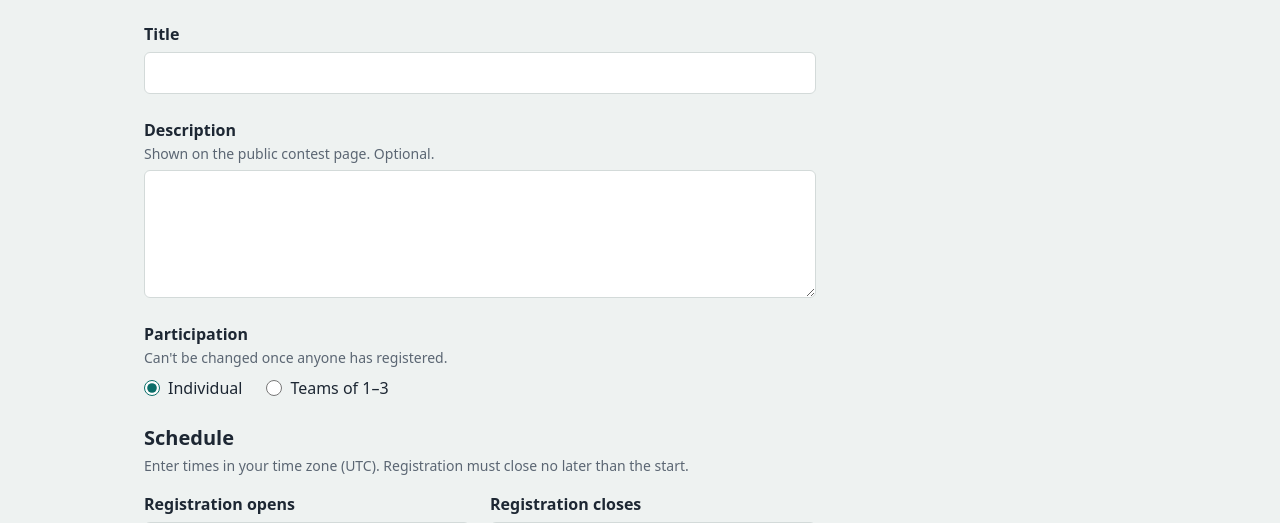
Test case: organizer contests › creates a draft with UTC times and opens it
Type "Weekly Practice" into the field labelled "Title" at {"x": 480, "y": 73}, box left=144, top=52, right=816, bottom=94
Click the radio button labelled "Teams of 1–3" at {"x": 274, "y": 388}, box left=266, top=380, right=282, bottom=396
(page scrolled)
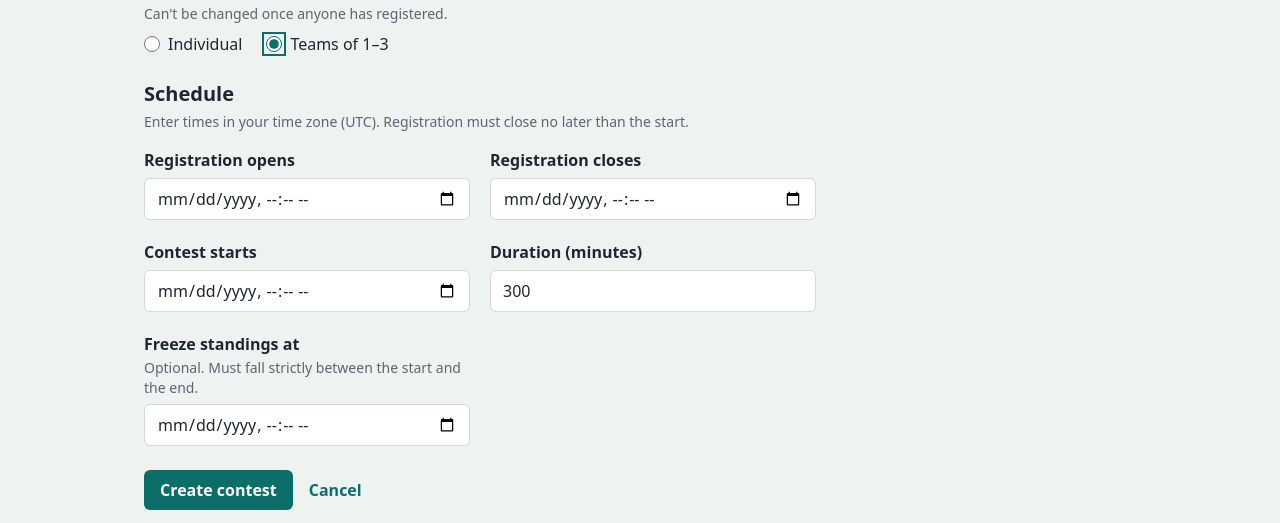
Type "2030-01-01T09:00" into the field labelled "Registration opens" at {"x": 307, "y": 199}, box left=144, top=178, right=470, bottom=220
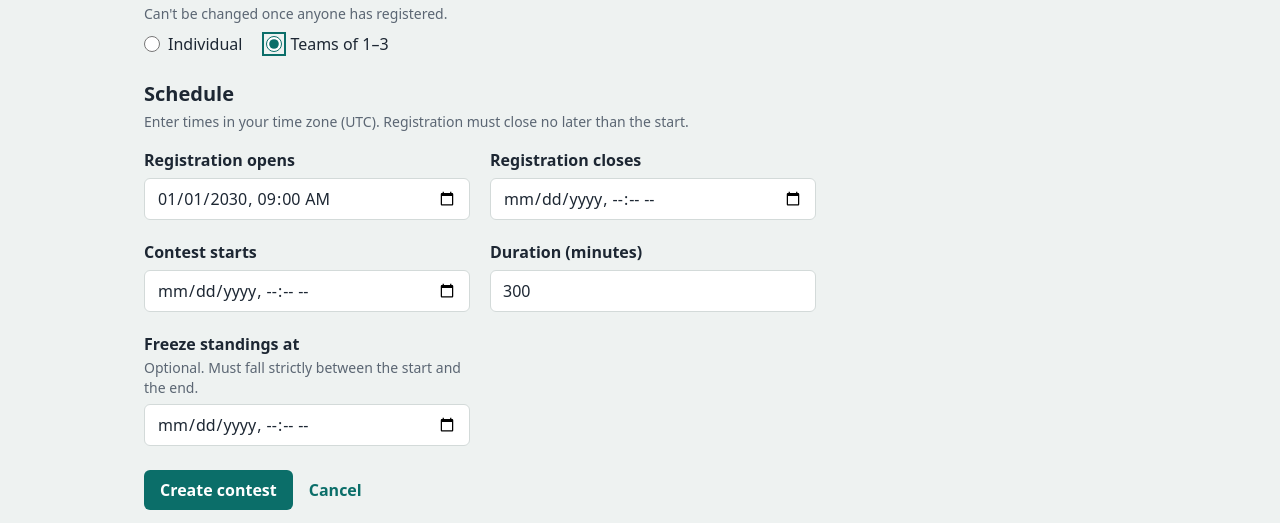
Type "2030-01-05T09:00" into the field labelled "Registration closes" at {"x": 653, "y": 199}, box left=490, top=178, right=816, bottom=220
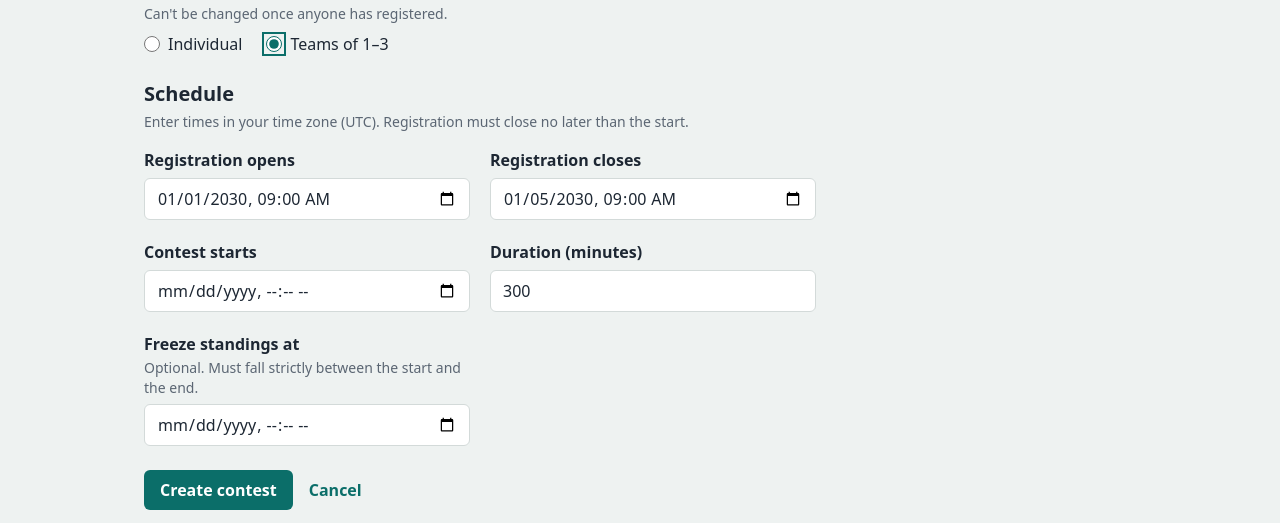
Type "2030-01-06T09:00" into the field labelled "Contest starts" at {"x": 307, "y": 291}, box left=144, top=270, right=470, bottom=312
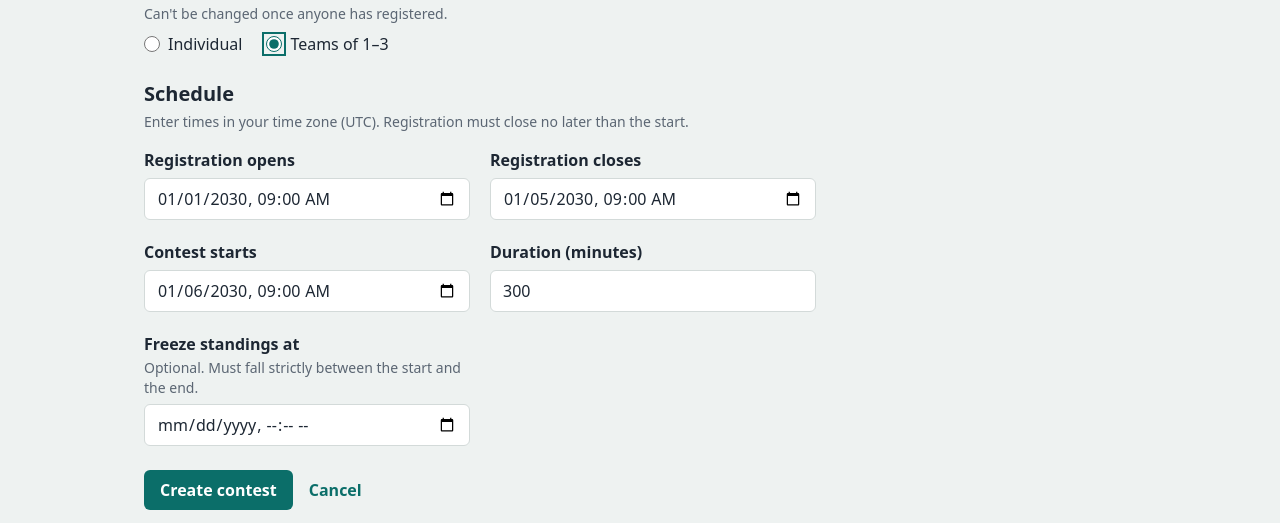
Replace the text in the number field labelled "Duration (minutes)" with "180" at {"x": 653, "y": 291}, box left=490, top=270, right=816, bottom=312
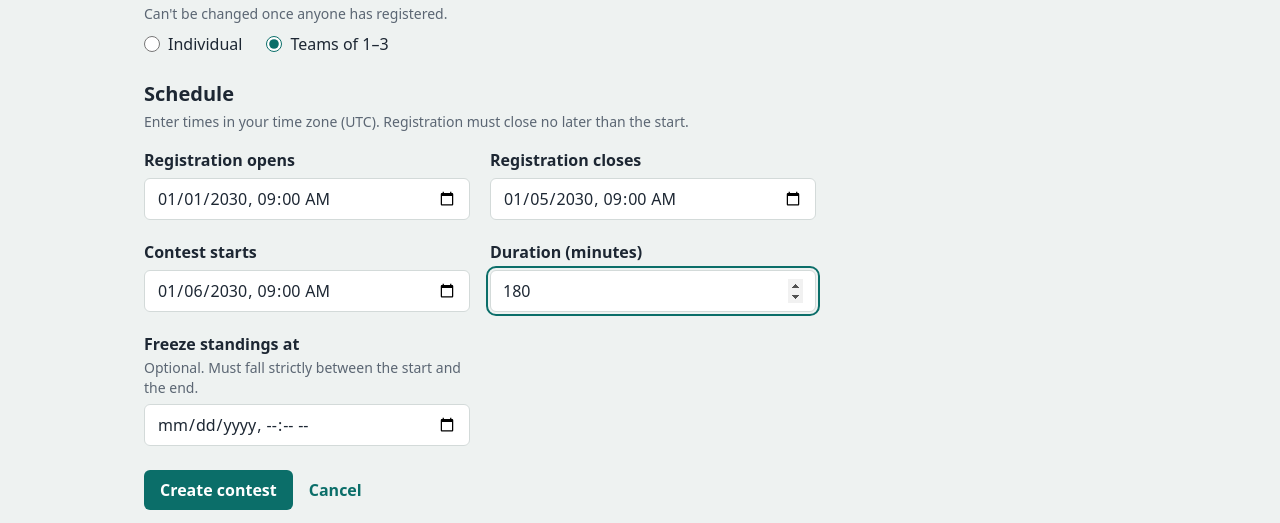
Click the button "Create contest" at {"x": 218, "y": 490}, box left=144, top=470, right=293, bottom=510
(page scrolled)
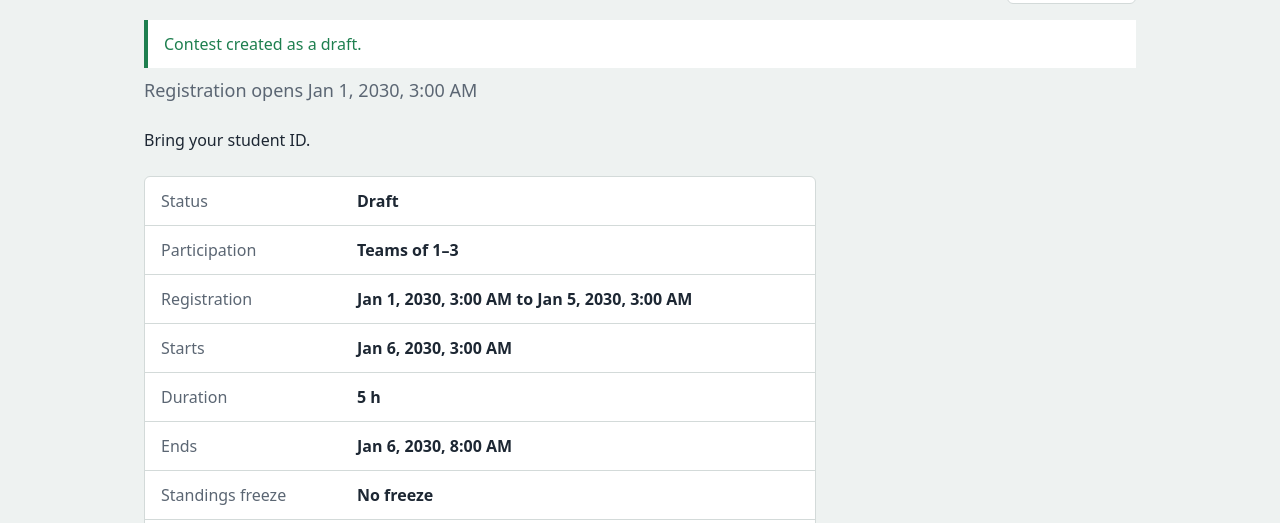
Check: the text "Contest created as a draft." is shown, box left=144, top=20, right=1136, bottom=68
